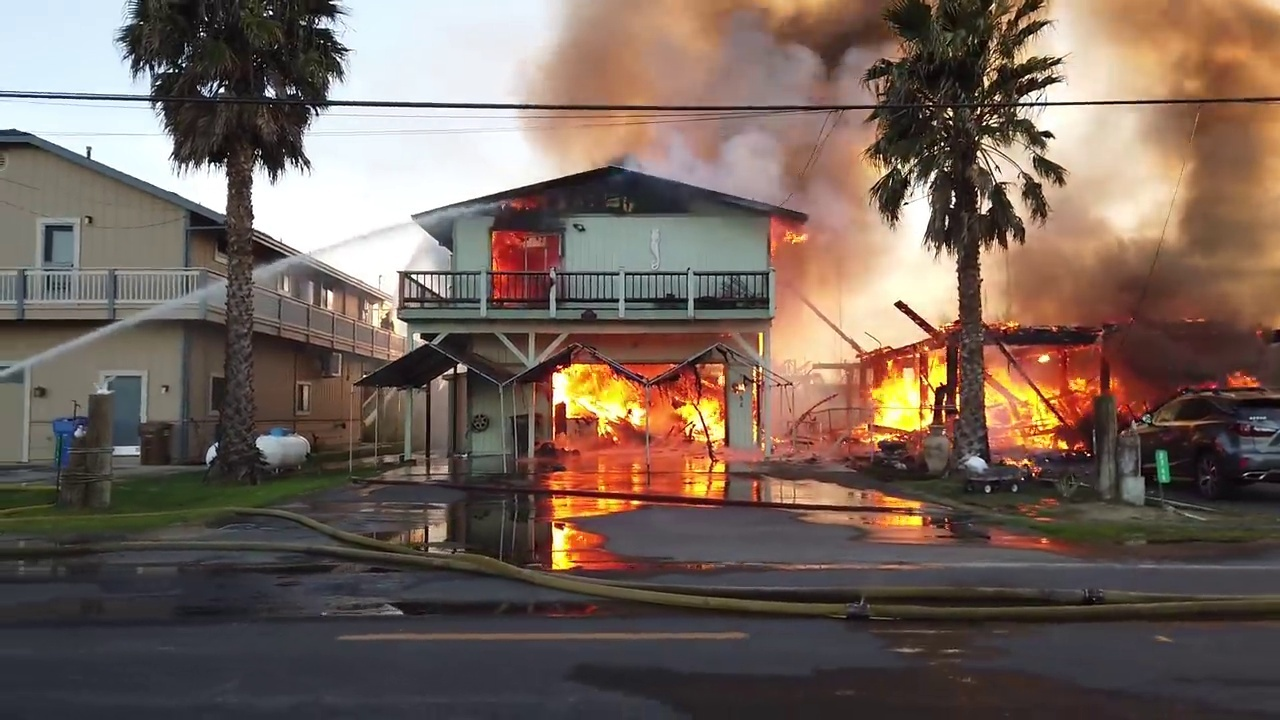fire: (856, 318, 1097, 455), (550, 356, 744, 450), (856, 348, 945, 437), (478, 225, 557, 303), (762, 209, 817, 263)
smoke: (1059, 88, 1280, 318), (526, 76, 863, 199), (517, 1, 862, 72), (1067, 1, 1280, 86), (851, 212, 958, 318), (1107, 324, 1279, 377), (755, 369, 856, 455), (772, 271, 850, 363), (986, 239, 1056, 320)
